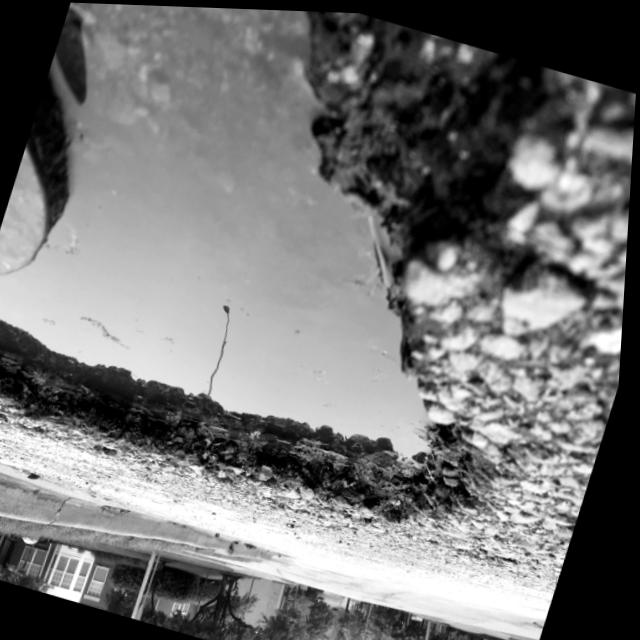pathole: (0, 2, 618, 563)
